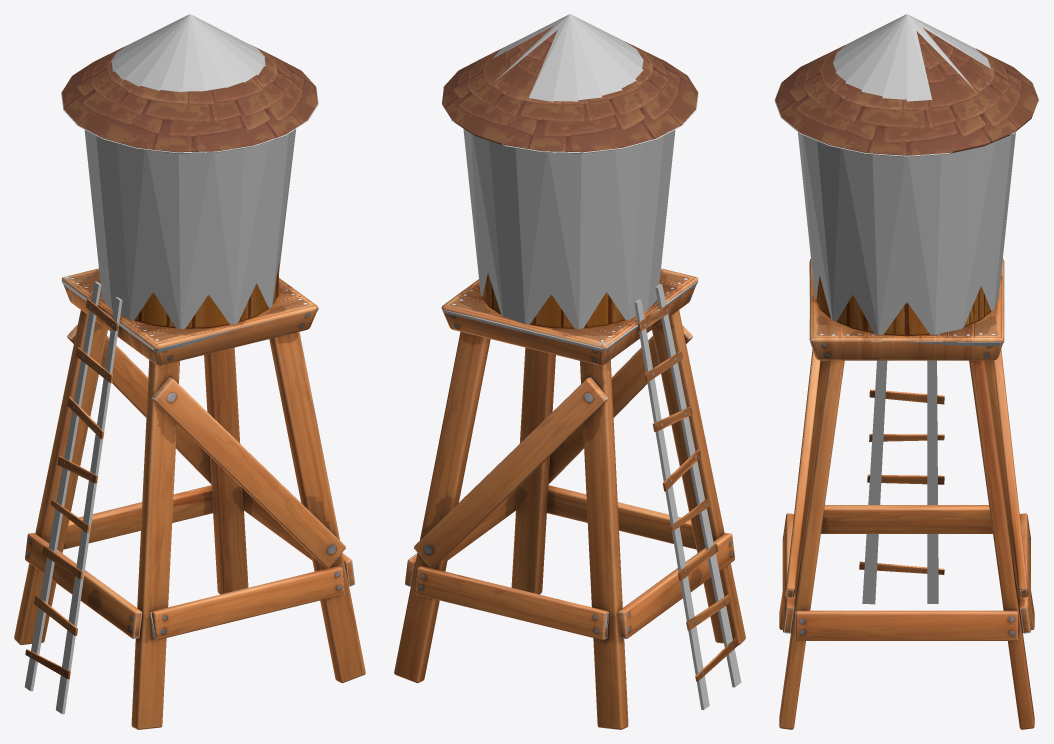
Rendered from SM_WaterTower02.fbx.
3 renders of one model, left to right at view 1: azimuth 30°, elevation 25°; view 2: azimuth 150°, elevation 25°; view 3: azimuth 270°, elevation 25°, orthographic. The views are drawn at different scales.
Parts seen in each view (by area): view 1: SM_WaterTower02, SM_WaterTower02_ConvexHulls; view 2: SM_WaterTower02, SM_WaterTower02_ConvexHulls; view 3: SM_WaterTower02, SM_WaterTower02_ConvexHulls.
Boxes of the visible parts, x1,y1,x2,y2 form: SM_WaterTower02: (14,44,365,729); SM_WaterTower02_ConvexHulls: (20,14,362,729); SM_WaterTower02: (394,26,745,729); SM_WaterTower02_ConvexHulls: (397,14,741,729); SM_WaterTower02: (775,28,1038,729); SM_WaterTower02_ConvexHulls: (774,14,1039,729).
Bounding box in the file's own units: 281 × 238 × 658.
Materials: 2 (1 with a texture image).
